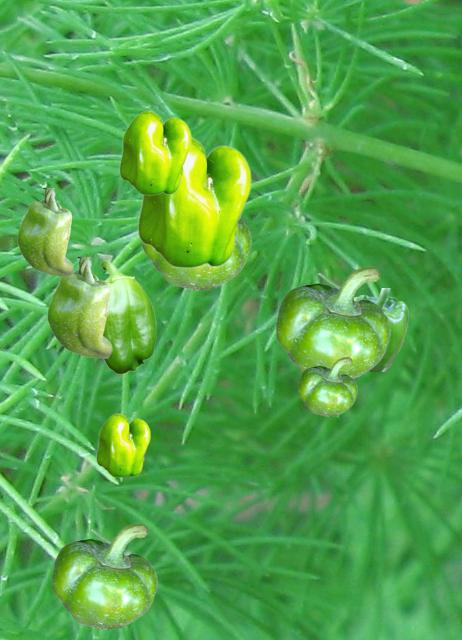bell_pepper: (137, 135, 250, 267), (276, 266, 389, 379), (52, 523, 156, 628), (142, 218, 250, 289), (47, 257, 111, 357), (99, 260, 155, 373), (119, 110, 190, 194), (17, 188, 72, 275), (355, 288, 407, 370), (298, 357, 356, 415), (96, 413, 149, 476)
